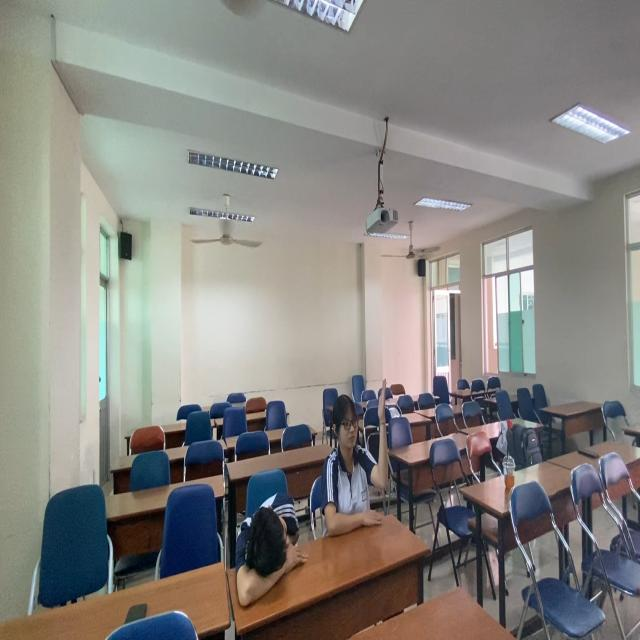raise_hand: (318, 374, 395, 539)
sleep: (214, 480, 321, 616)
